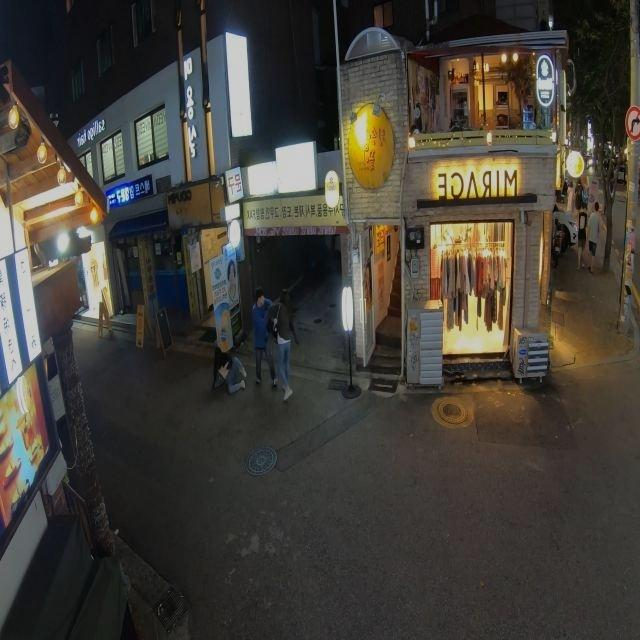fight: (250, 285, 297, 401)
